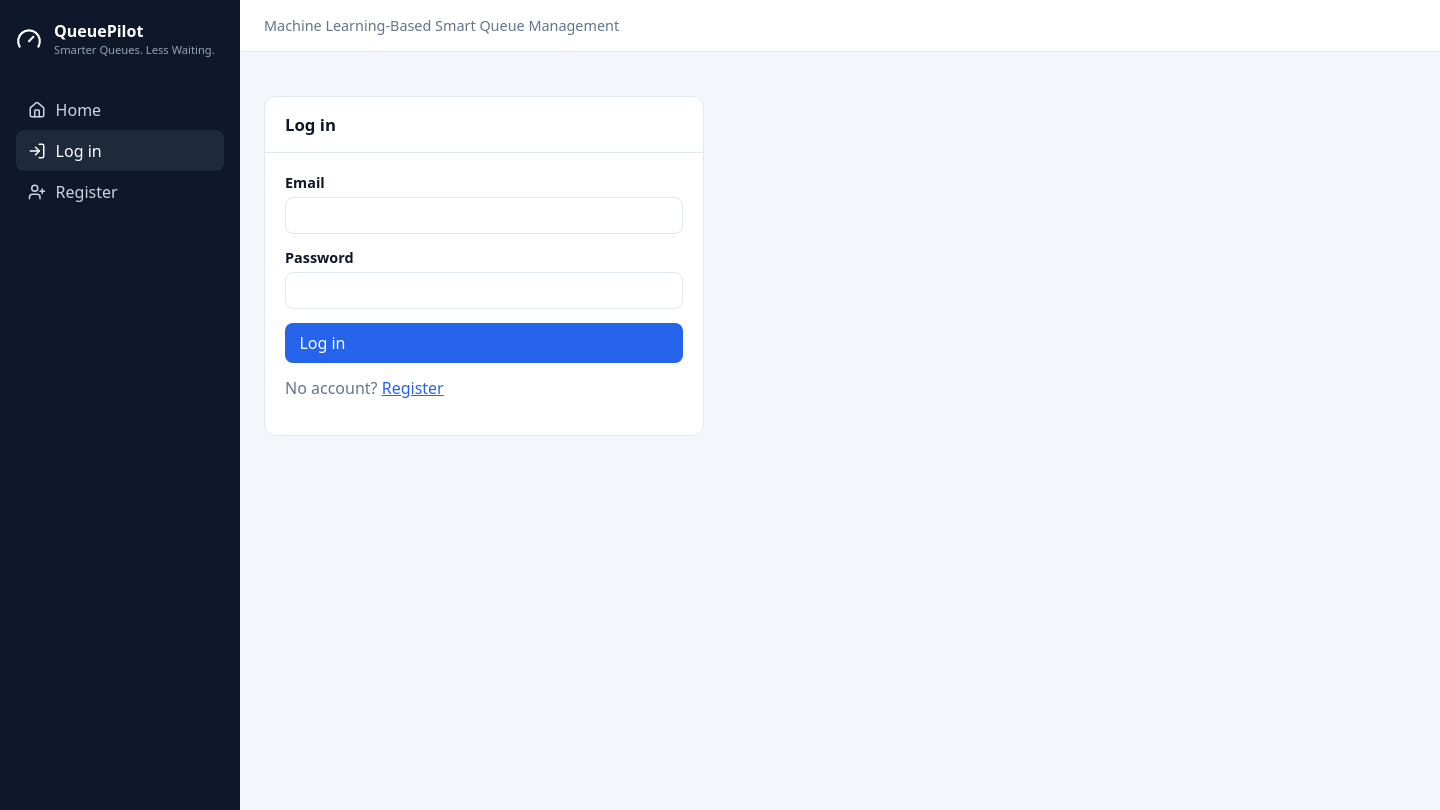
Test case: login stores token and lands on the role dashboard
Type "jane@example.com" into the field labelled "Email".
click(484, 215); type("jane@example.com")  # box x1=285 y1=197 x2=683 y2=234
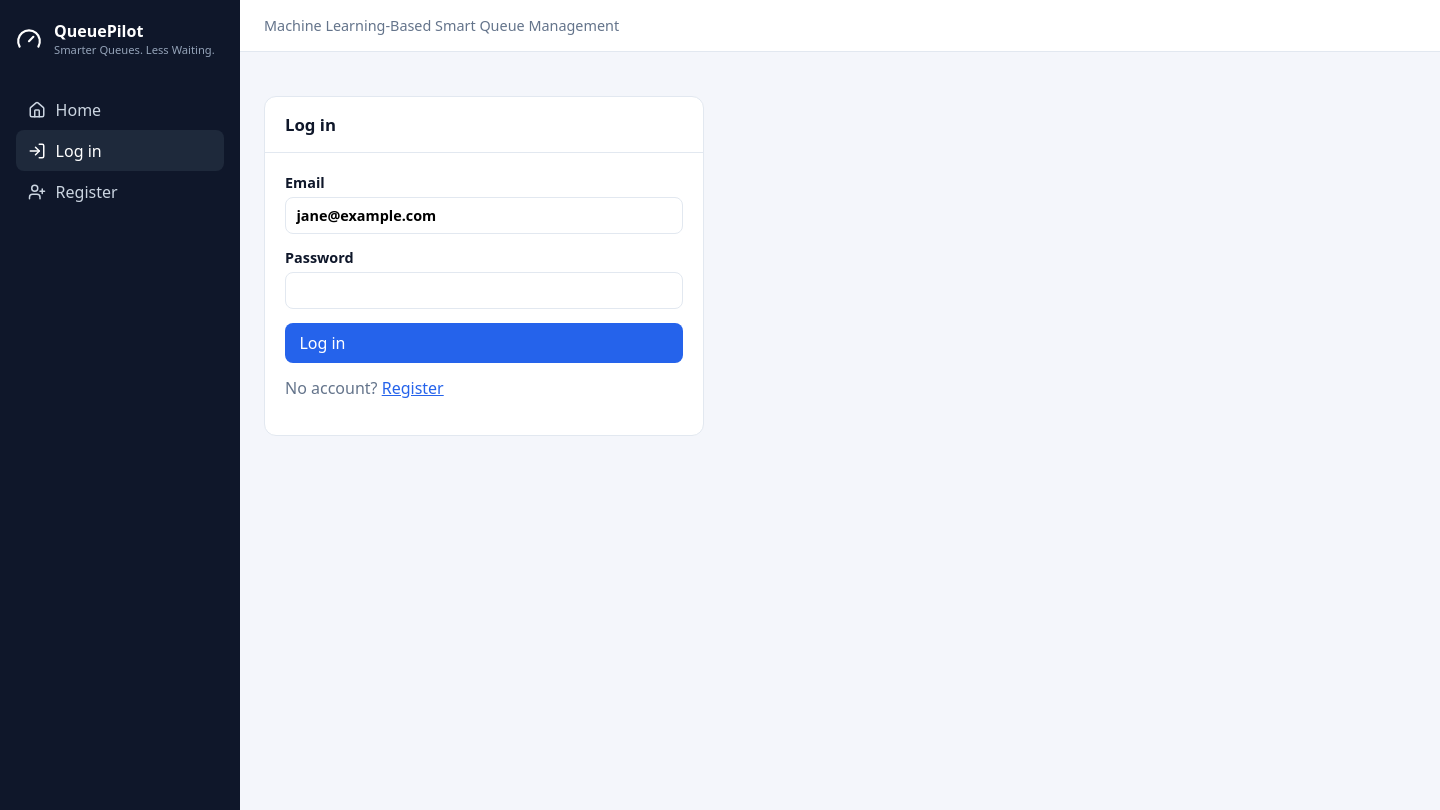
Type "Passw0rd!x" into the password field labelled "Password".
click(484, 290); type("Passw0rd!x")  # box x1=285 y1=272 x2=683 y2=309
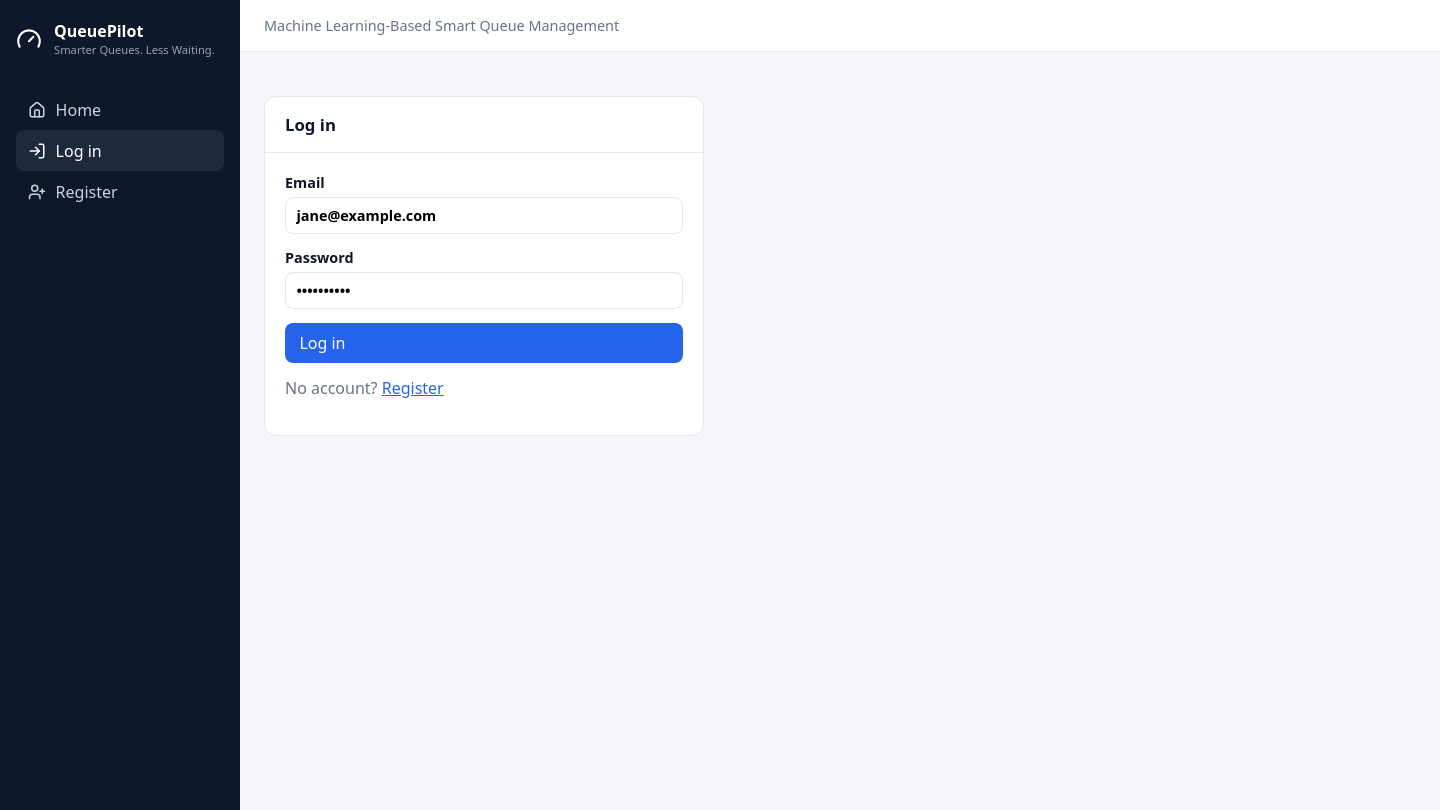
Click the button "Log in".
click(322, 343)  # box x1=285 y1=323 x2=683 y2=363
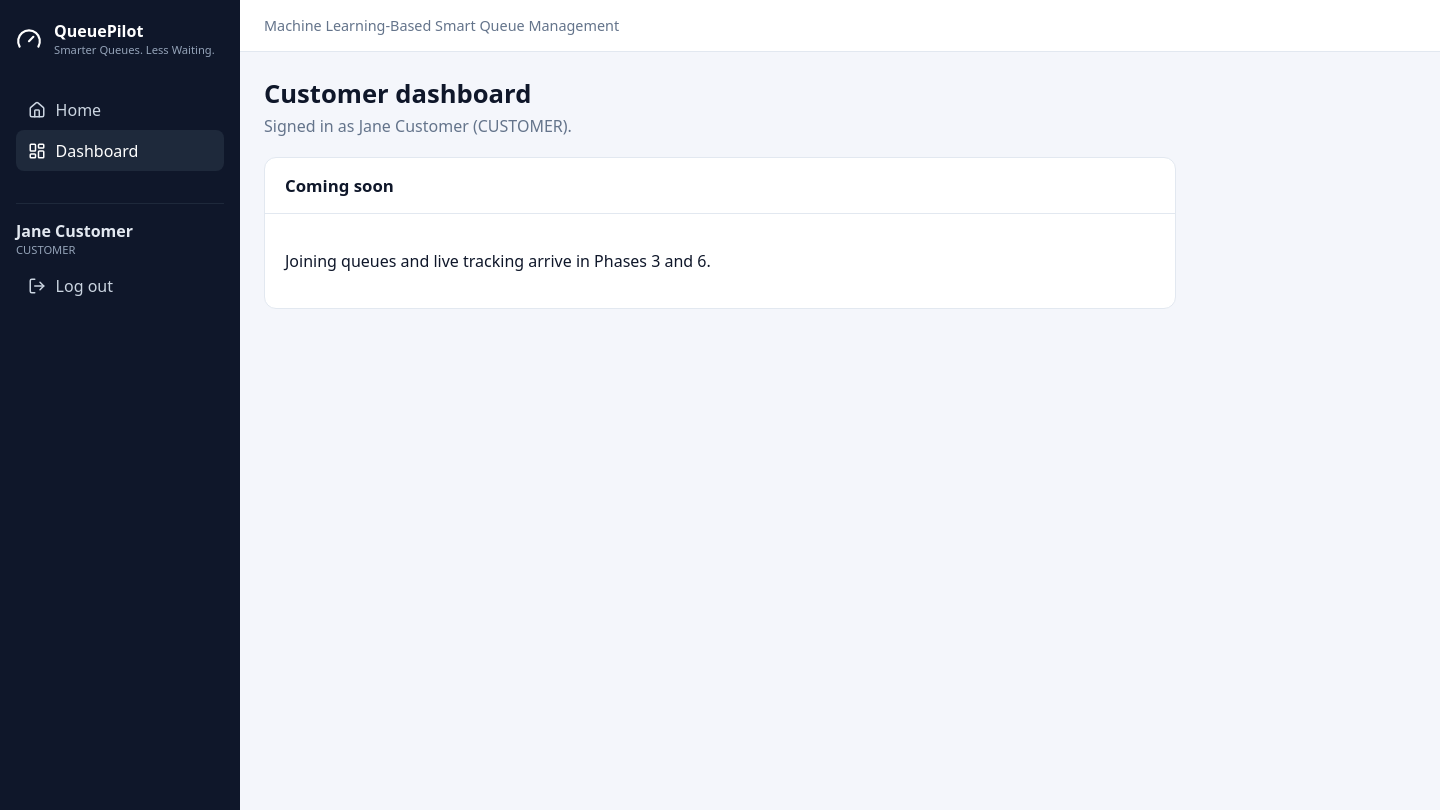
Now the heading "Customer dashboard" is shown, box x1=264 y1=76 x2=531 y2=111
